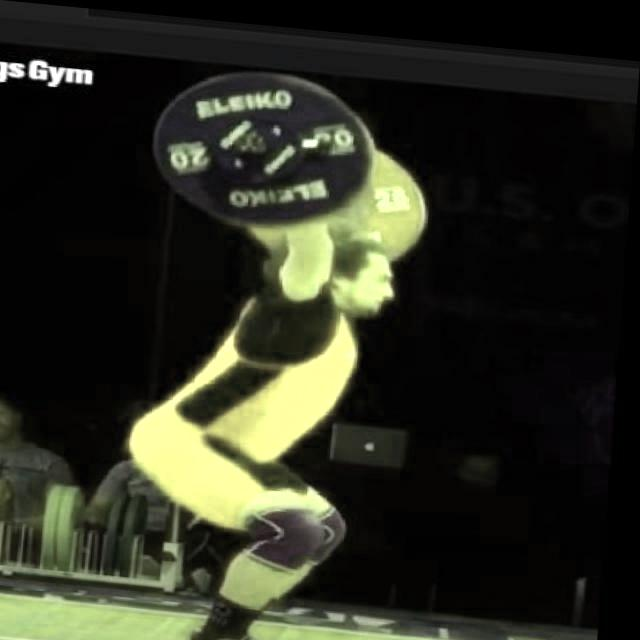barbell: (151, 56, 382, 236)
